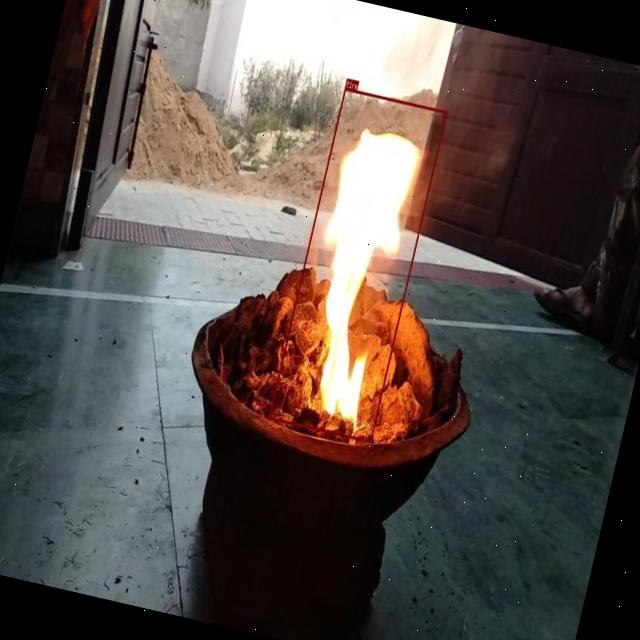fire: (268, 88, 448, 442)
